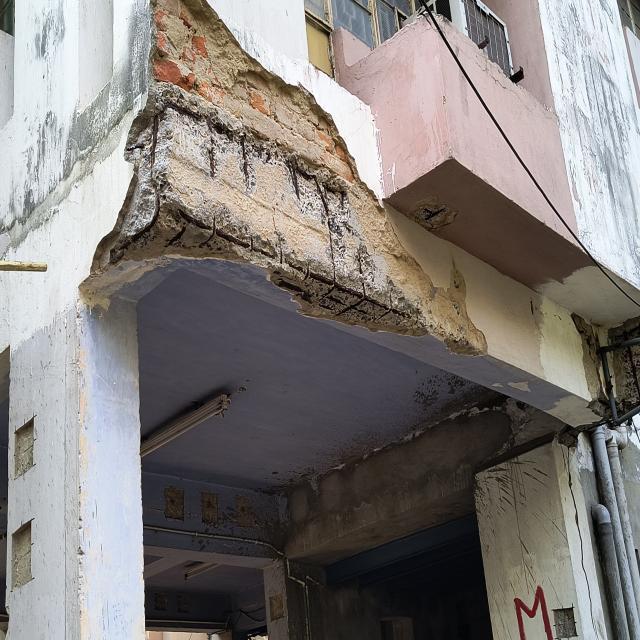Spalling: (93, 0, 487, 355), (571, 313, 640, 420), (608, 344, 640, 418)
